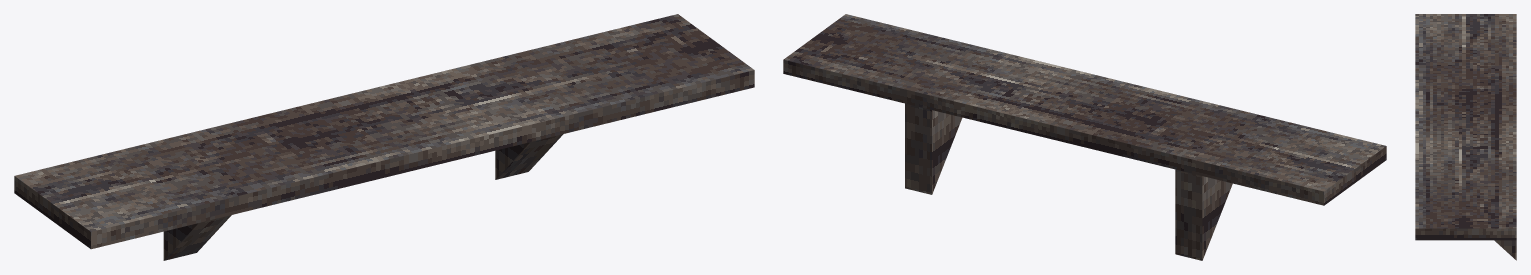
Rendered from shelf.glb.
3 views of the same model, side by side, from view 1: azimuth 30°, elevation 25°; view 2: azimuth 150°, elevation 25°; view 3: azimuth 270°, elevation 25° (orthographic). The views are drawn at different scales.
Parts seen in each view (by area): view 1: Shelf Long; view 2: Shelf Long; view 3: Shelf Long.
Boxes of the visible parts, x1,y1,x2,y2 form: Shelf Long: (14,14,754,260); Shelf Long: (783,14,1386,260); Shelf Long: (1415,14,1516,260).
Bounding box in the file's own units: 1 × 0.175 × 0.2.
Materials: 1 (1 with a texture image).
